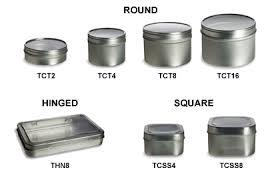Tin: (3, 5, 273, 180)
